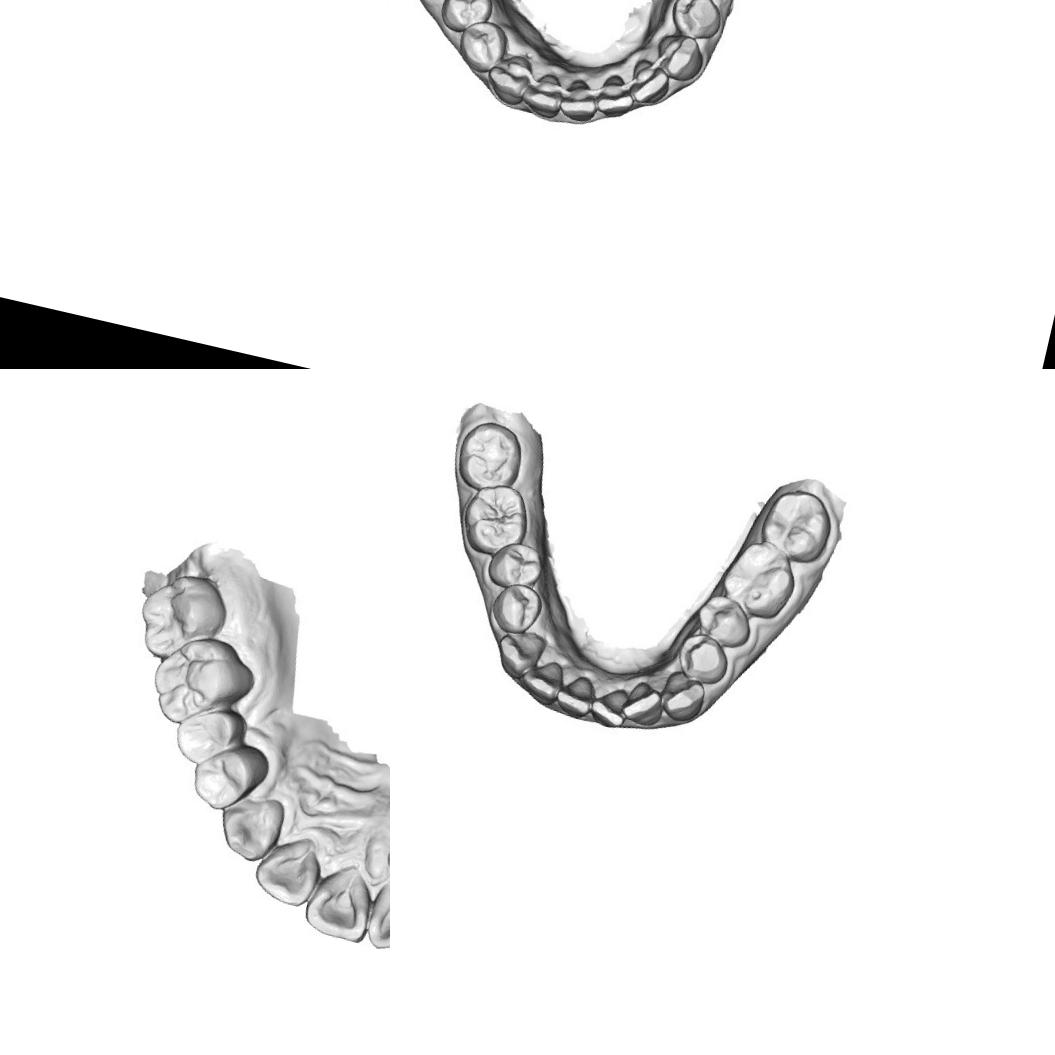canine: (212, 790, 286, 865), (649, 28, 708, 84), (492, 627, 550, 681), (484, 53, 537, 106), (660, 674, 709, 724)
incisor: (298, 865, 380, 949), (248, 833, 324, 914), (357, 867, 390, 958), (522, 74, 568, 124), (594, 76, 640, 122), (621, 680, 665, 726), (522, 655, 566, 698), (559, 670, 600, 713), (628, 62, 668, 104), (565, 80, 601, 119), (589, 688, 626, 725)
molar: (145, 624, 265, 737), (132, 564, 232, 672), (718, 534, 802, 625), (450, 414, 526, 494), (760, 483, 836, 562), (460, 481, 532, 557)
premolar: (190, 744, 258, 812), (175, 703, 240, 765), (693, 590, 758, 650), (490, 535, 547, 593), (456, 17, 510, 74), (674, 634, 732, 686), (490, 580, 544, 632), (673, 0, 729, 42), (443, 0, 489, 29)
